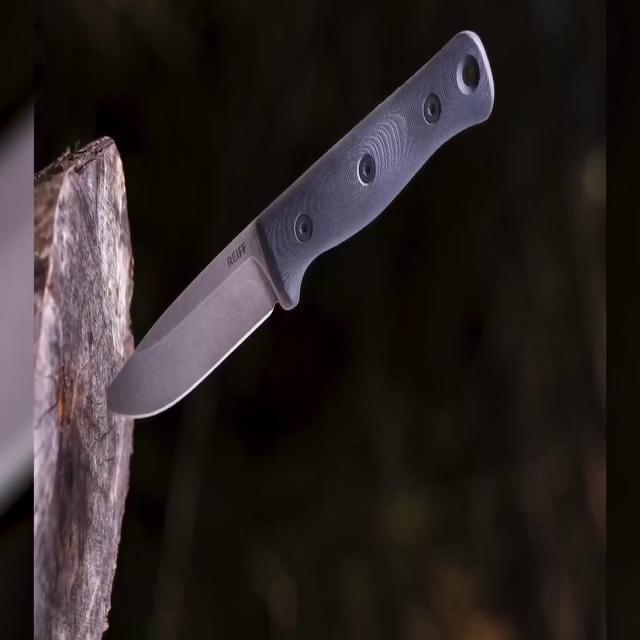Knife: (104, 21, 501, 438)
